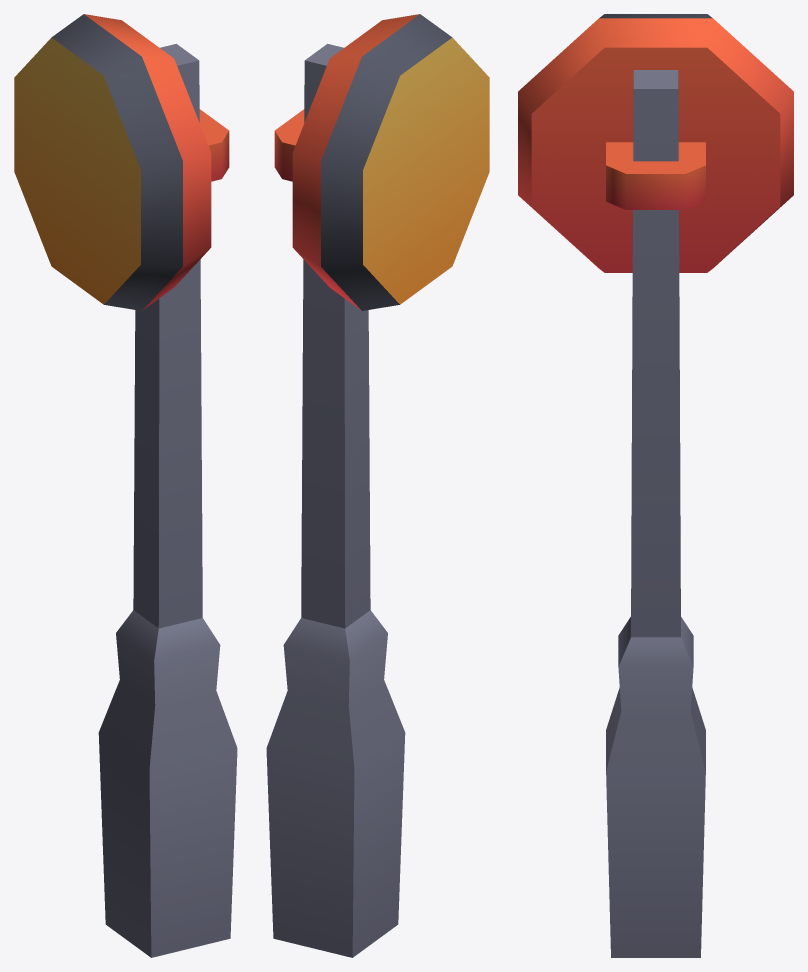
Rendered from rd-sign-stop.glb.
The picture shows the model from 3 angles, left to right: view 1: azimuth 30°, elevation 25°; view 2: azimuth 150°, elevation 25°; view 3: azimuth 270°, elevation 25°; orthographic projection.
Visible parts, largest first — view 1: road-sign-stop; view 2: road-sign-stop; view 3: road-sign-stop.
Part boxes in pixels (left/top/right/bottom): road-sign-stop: left=14, top=14, right=237, bottom=957; road-sign-stop: left=266, top=14, right=489, bottom=957; road-sign-stop: left=518, top=14, right=793, bottom=957.
Bounding box in the file's own units: 0.0775 × 0.4941 × 0.1382.
Materials: 1 (1 with a texture image).
